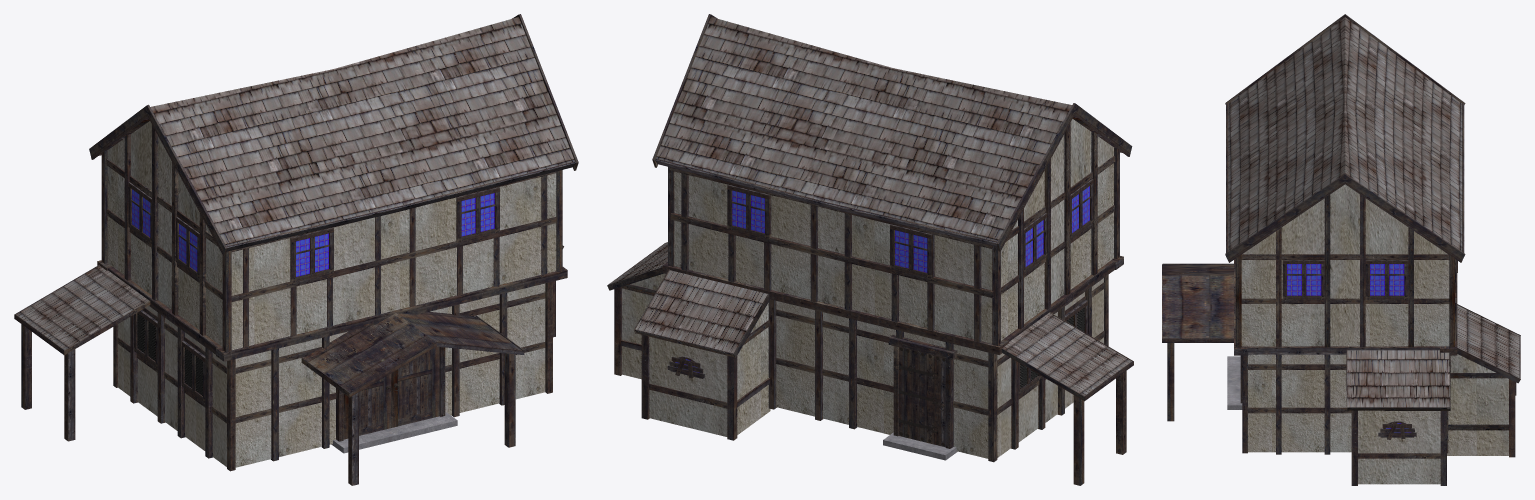
Rendered from house69.dae.
3 renders of one model, left to right at view 1: azimuth 30°, elevation 25°; view 2: azimuth 150°, elevation 25°; view 3: azimuth 270°, elevation 25°, orthographic. The views are drawn at different scales.
Visible parts, largest first — view 1: House1_Roof, House1_Level2, House1_Level1, House1_Level2_Beams, House1_Level1_Beams, Roof1Outer, Roof2Outer, House1_Roof_Frame, House1_Level1_SeperatorBeams, Door4Right, Roof1Poles, Roof2Poles (+13 smaller); view 2: House1_Roof, House1_Level2, House1_Level1, House1_Level2_Beams, House1_Level1_Beams, BuildingExtensions4, BuildingExtensions4Roof, Roof2Outer, House1_Roof_Frame, Door1, House1_Level1_SeperatorBeams, BuildingExtensions4Beams (+14 smaller); view 3: House1_Roof, House1_Level2, House1_Level1, House1_Level2_Beams, BuildingExtensions4Roof_001, Roof1Outer, BuildingExtensions4_001, BuildingExtensions4, House1_Roof_Frame, House1_Level1_Beams, BuildingExtensions4Roof, House1_Level1_SeperatorBeams (+12 smaller).
Boxes of the visible parts, x1,y1,x2,y2 form: House1_Roof: (150,17,574,245); House1_Level2: (107,121,556,350); House1_Level1: (118,283,545,467); House1_Level2_Beams: (101,125,562,352); House1_Level1_Beams: (113,281,552,471); Roof1Outer: (303,311,521,392); Roof2Outer: (16,265,148,349); House1_Roof_Frame: (89,14,578,256); House1_Level1_SeperatorBeams: (97,260,567,361); Door4Right: (391,346,439,427); Roof1Poles: (348,353,515,485); Roof2Poles: (21,324,75,441); House1_Roof: (656,17,1072,241); House1_Level2: (674,119,1113,343); House1_Level1: (776,278,1103,458); House1_Level2_Beams: (668,123,1119,345); House1_Level1_Beams: (768,275,1108,462); BuildingExtensions4: (649,302,770,436); BuildingExtensions4Roof: (636,270,767,353); Roof2Outer: (1002,312,1131,395); House1_Roof_Frame: (652,14,1132,251); Door1: (898,347,945,447); House1_Level1_SeperatorBeams: (662,256,1123,355); BuildingExtensions4Beams: (641,320,769,440); House1_Roof: (1228,17,1462,251); House1_Level2: (1241,184,1449,346); House1_Level1: (1248,354,1351,452); House1_Level2_Beams: (1235,194,1456,347); BuildingExtensions4Roof_001: (1347,350,1449,408); Roof1Outer: (1162,264,1233,338); BuildingExtensions4_001: (1358,410,1440,484); BuildingExtensions4: (1447,354,1508,455); House1_Roof_Frame: (1225,14,1465,262); House1_Level1_Beams: (1242,354,1448,454); BuildingExtensions4Roof: (1457,305,1519,377); House1_Level1_SeperatorBeams: (1234,259,1457,355).
Size of the model in its own units: 11.48 by 8.29 by 7.51.
24 materials, 24 textured.
